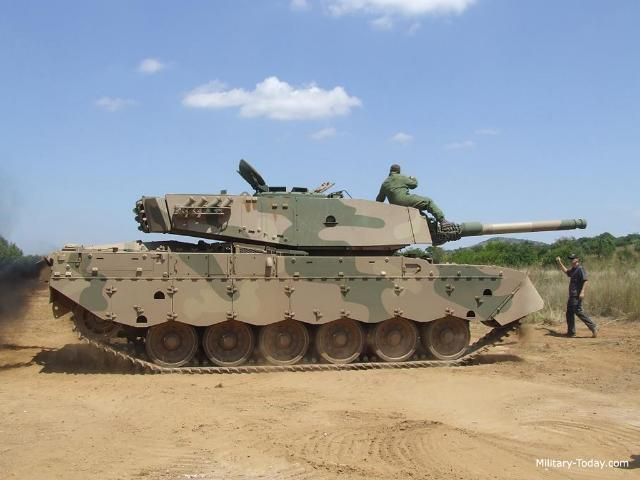other: (382, 162, 444, 220), (562, 250, 590, 334)
tank: (53, 194, 533, 358)
